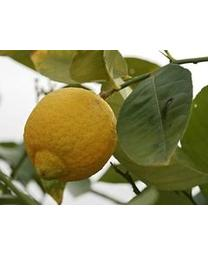lemon: (24, 88, 115, 181)
